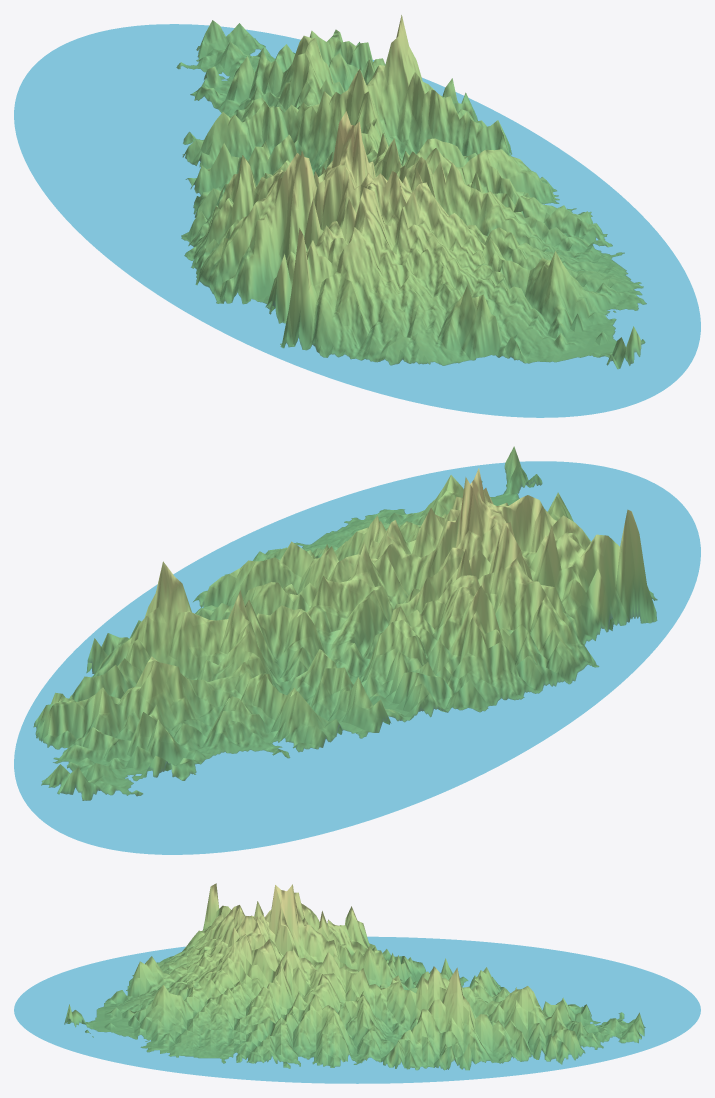
The model's file is LCA-terrain.glb.
The picture shows the model from 3 angles, top to bottom: view 1: azimuth 30°, elevation 25°; view 2: azimuth 150°, elevation 25°; view 3: azimuth 270°, elevation 25°; orthographic projection. The views are drawn at different scales.
Visible parts, largest first — view 1: Relevo com hidrografia; view 2: Relevo com hidrografia; view 3: Relevo com hidrografia.
Boxes of the visible parts, x1,y1,x2,y2 form: Relevo com hidrografia: (14, 15, 700, 417); Relevo com hidrografia: (14, 446, 700, 854); Relevo com hidrografia: (14, 883, 700, 1083).
Bounding box in the file's own units: 0.9617 × 0.3254 × 1.9.
Materials: 2 (1 with a texture image).
